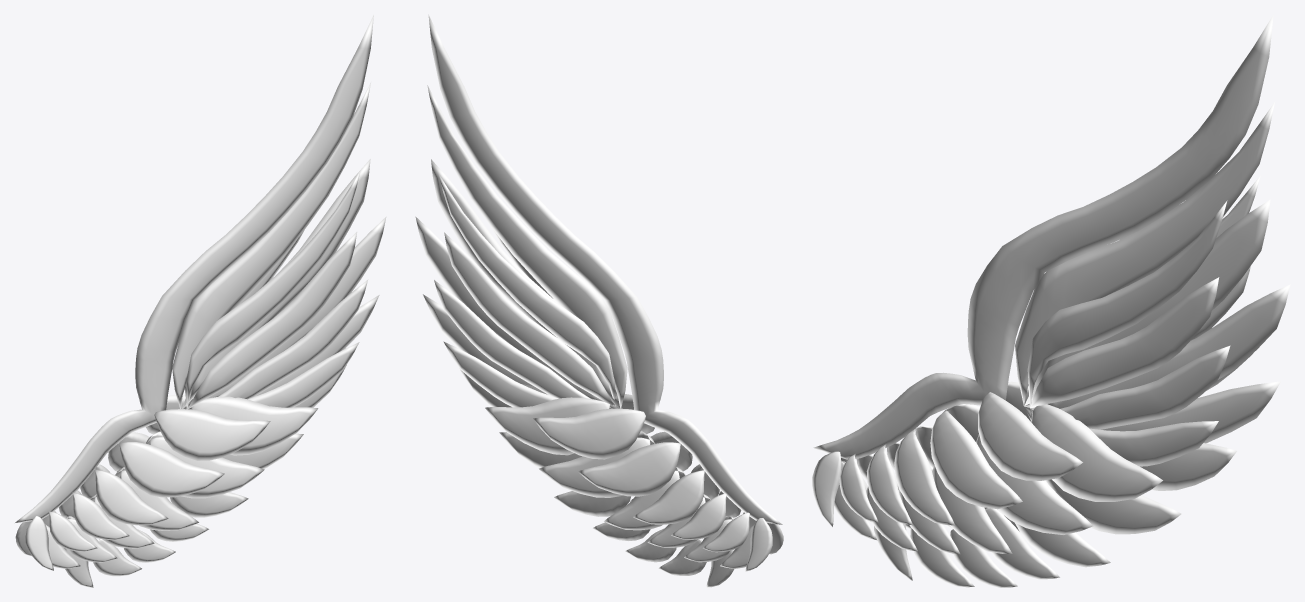
Rendered from leftwing.obj.
3 renders of one model, left to right at view 1: azimuth 30°, elevation 25°; view 2: azimuth 150°, elevation 25°; view 3: azimuth 330°, elevation 25°, orthographic. The views are drawn at different scales.
Parts seen in each view (by area): view 1: polySurface83; view 2: polySurface83; view 3: polySurface83.
Part boxes in pixels (<box>): polySurface83: <box>15,15,386,587</box>; polySurface83: <box>415,14,783,587</box>; polySurface83: <box>812,14,1290,587</box>.
Size of the model in its own units: 0.5477 by 0.7158 by 0.1085.
Materials: 1 (1 with a texture image).
